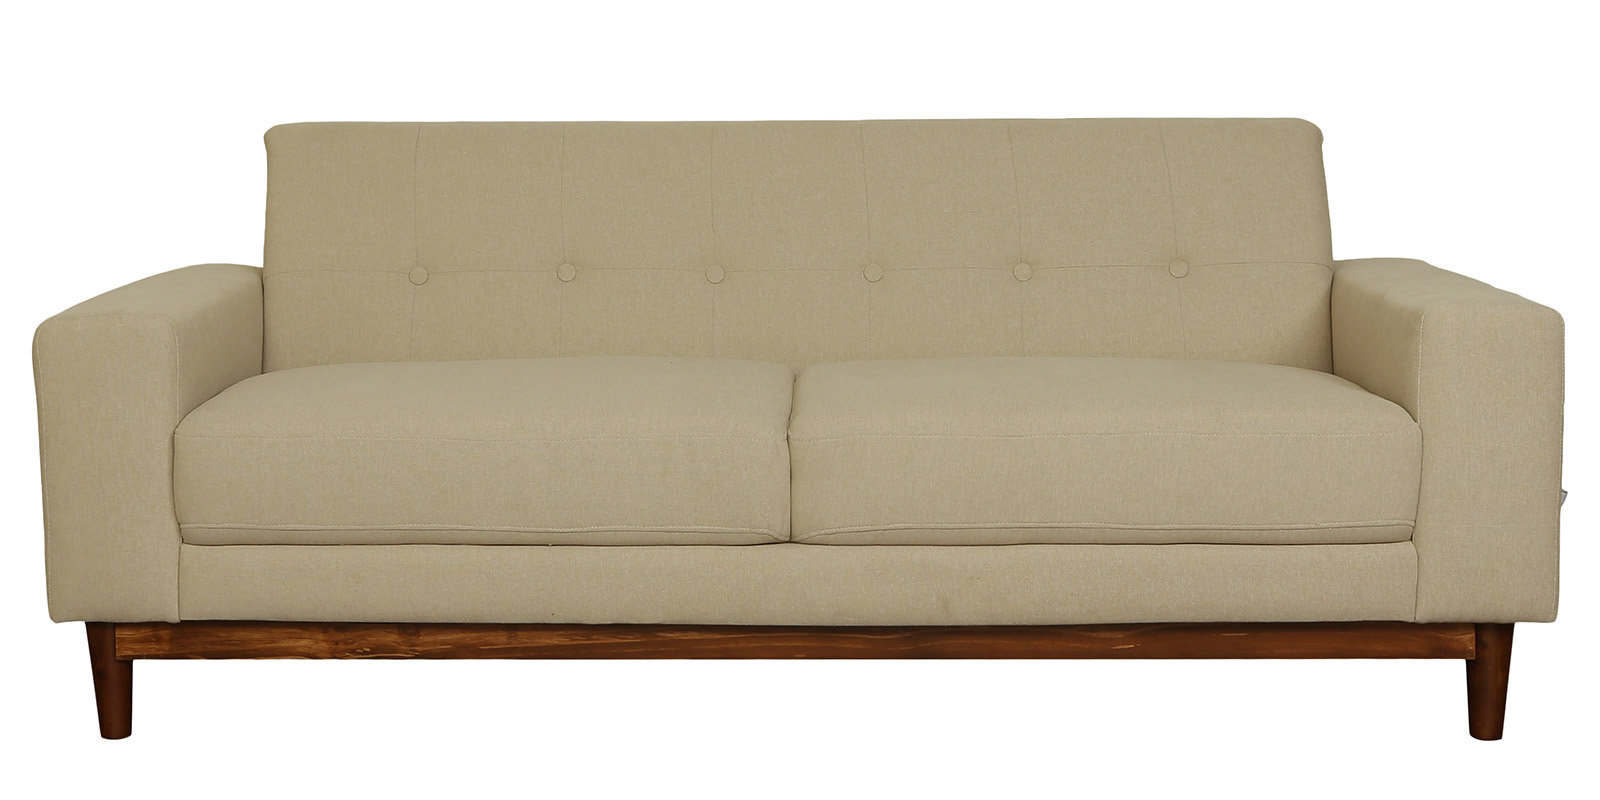Cordoba Three Seater Sofa in Beige Colour by CasaCraft: (24, 113, 1573, 750)
